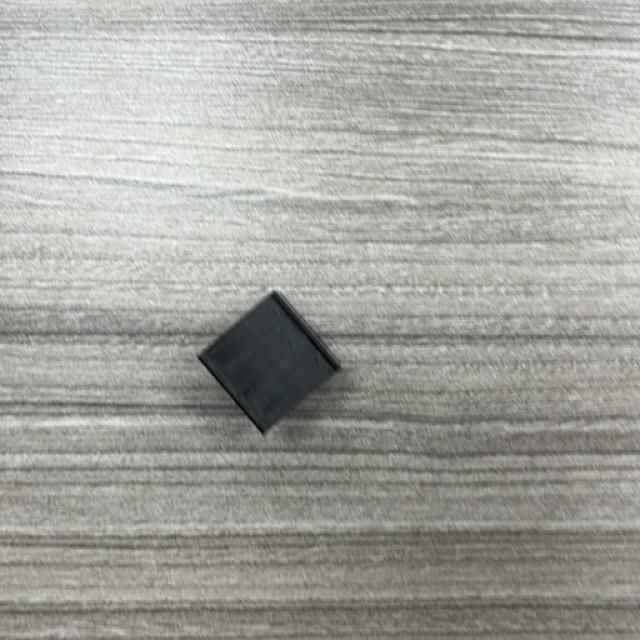Negro: (196, 290, 341, 435)
